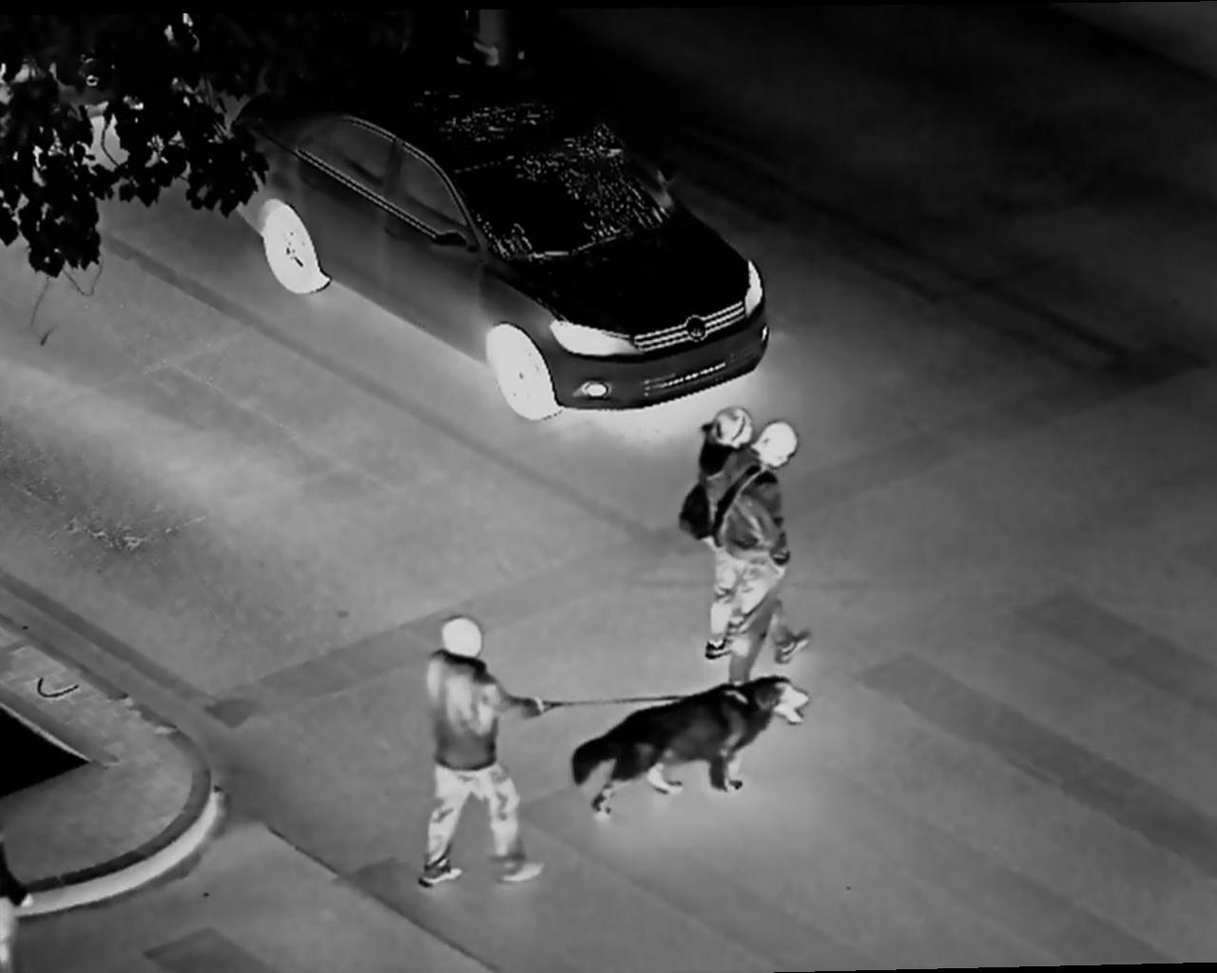person: (424, 618, 554, 894), (729, 420, 804, 677), (683, 404, 744, 535)
